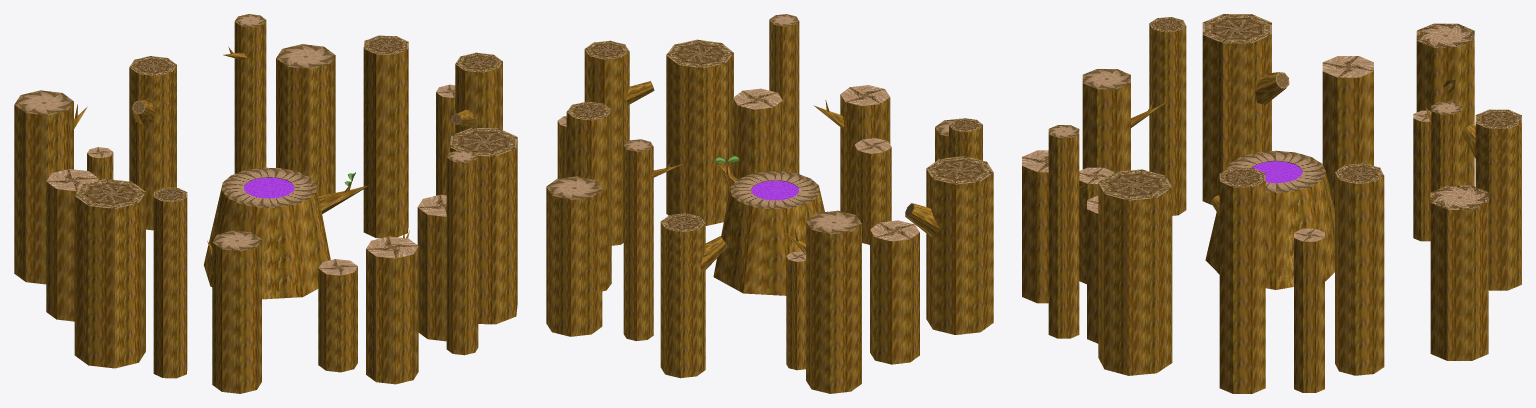
The model's file is ex_mario_all.obj.
The picture shows the model from 3 angles, left to right: view 1: azimuth 30°, elevation 25°; view 2: azimuth 150°, elevation 25°; view 3: azimuth 270°, elevation 25°; orthographic projection. The views are drawn at different scales.
Visible parts, largest first — view 1: r0; view 2: r0; view 3: r0.
Part boxes in pixels (left/top/right/bottom): r0: left=14, top=14, right=517, bottom=393; r0: left=546, top=14, right=993, bottom=393; r0: left=1022, top=14, right=1521, bottom=393.
Bounding box in the file's own units: 18.16 × 8.3 × 17.96.
